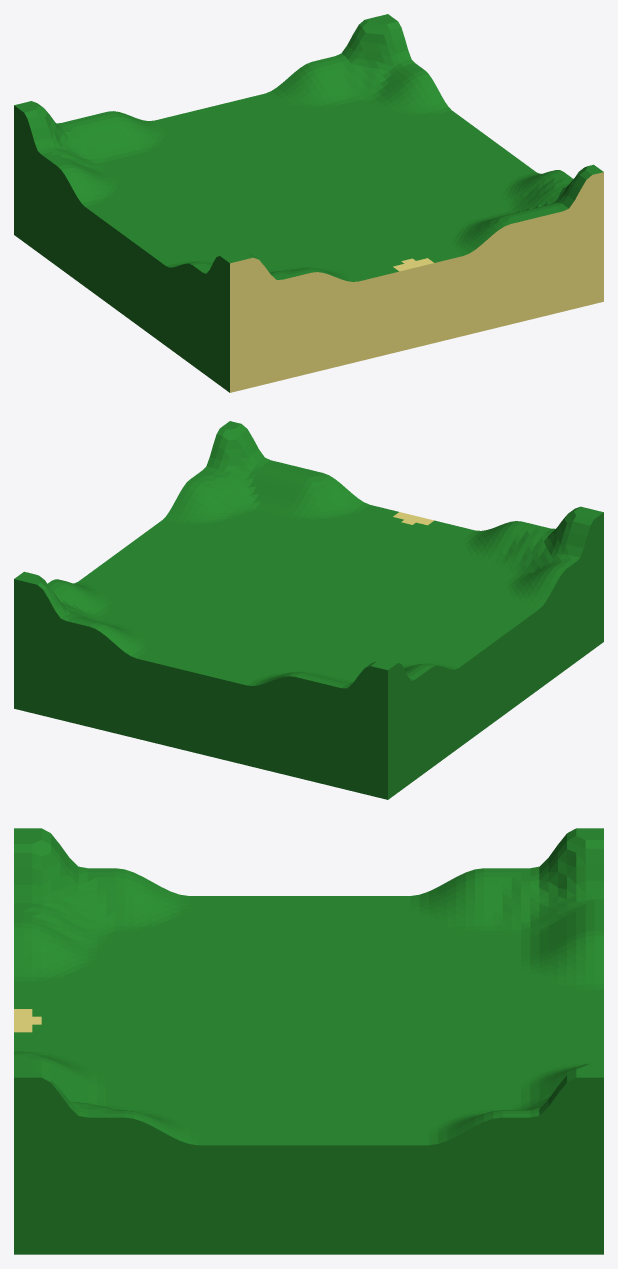
File: Level 1 - Area 4.fbx
3 renders of one model, top to bottom at view 1: azimuth 30°, elevation 25°; view 2: azimuth 150°, elevation 25°; view 3: azimuth 270°, elevation 25°, orthographic. The views are drawn at different scales.
Visible parts, largest first — view 1: Level 1 - Area final Triangulated; view 2: Level 1 - Area final Triangulated; view 3: Level 1 - Area final Triangulated.
Part boxes in pixels (x1=…): Level 1 - Area final Triangulated: x1=14, y1=14, x2=603, y2=392; Level 1 - Area final Triangulated: x1=14, y1=421, x2=603, y2=799; Level 1 - Area final Triangulated: x1=14, y1=828, x2=603, y2=1254.
Bounding box in the file's own units: 10000 × 3312 × 10000.
